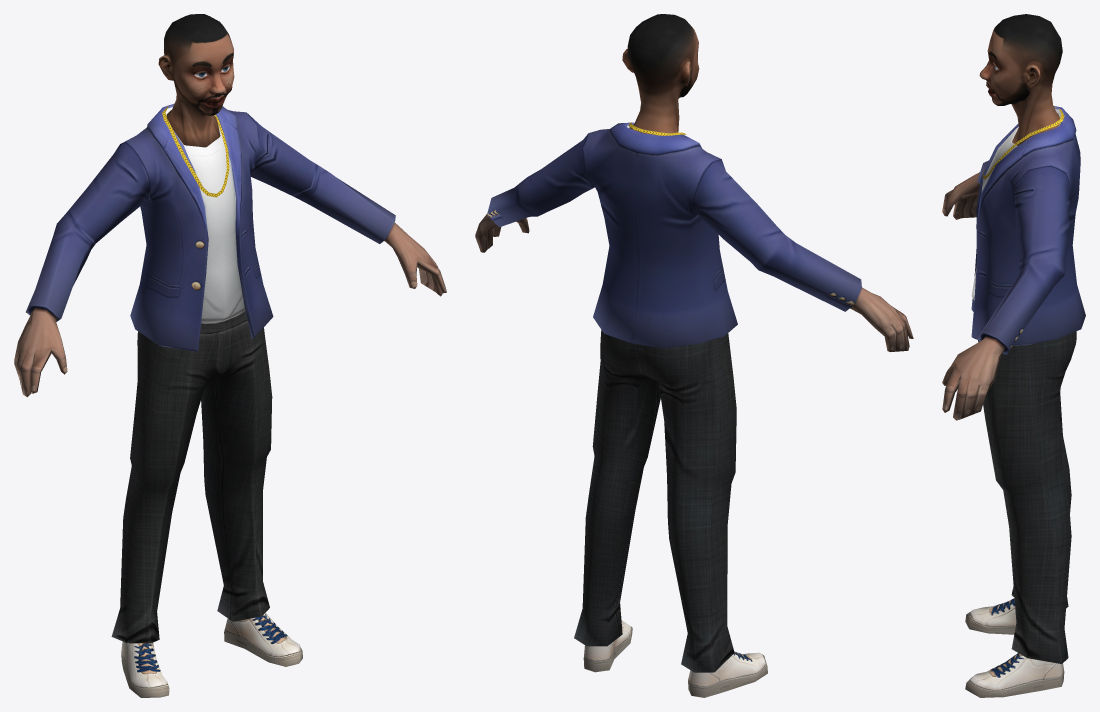
Rendered from charecter5.glb.
The picture shows the model from 3 angles, left to right: view 1: azimuth 30°, elevation 25°; view 2: azimuth 150°, elevation 25°; view 3: azimuth 270°, elevation 25°; orthographic projection.
Parts seen in each view (by area): view 1: B3_top, B3_down, B3_head; view 2: B3_top, B3_down, B3_head; view 3: B3_top, B3_down, B3_head.
Part boxes in pixels (x1=…): B3_top: x1=14, y1=104, x2=446, y2=397; B3_down: x1=111, y1=311, x2=302, y2=697; B3_head: x1=158, y1=14, x2=234, y2=147; B3_top: x1=475, y1=122, x2=913, y2=351; B3_down: x1=574, y1=330, x2=767, y2=697; B3_head: x1=622, y1=14, x2=699, y2=135; B3_top: x1=942, y1=106, x2=1085, y2=420; B3_down: x1=965, y1=331, x2=1076, y2=697; B3_head: x1=979, y1=14, x2=1062, y2=145.
Bounding box in the file's own units: 1.12 × 1.65 × 0.3359.
3 materials, 3 textured.
